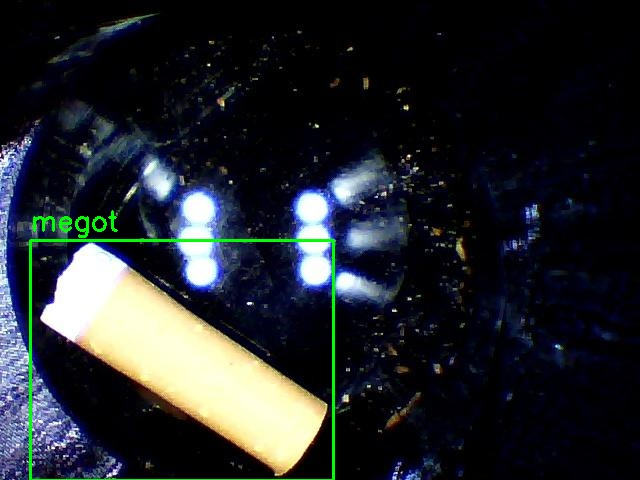megot: (30, 240, 333, 480)
